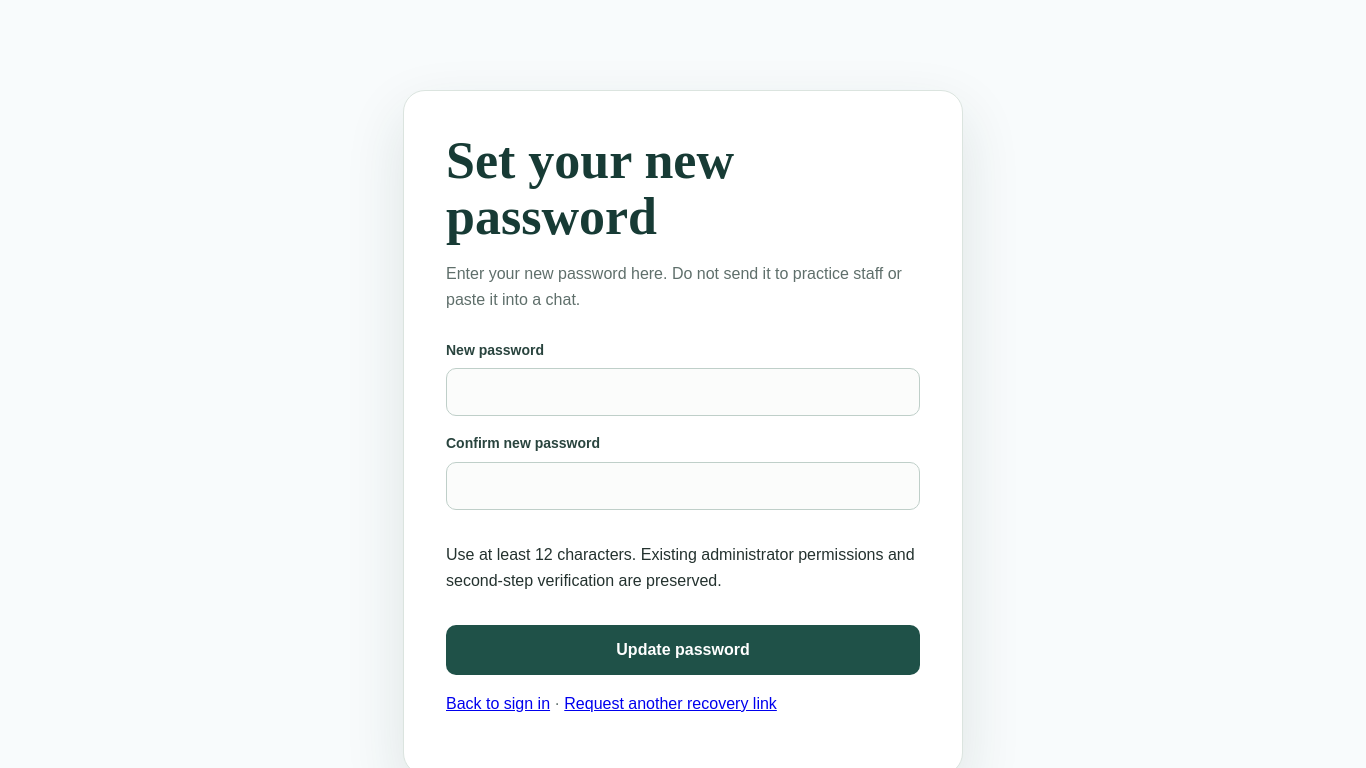
Test: expired session is rechecked before updating
Type "synthetic-test-only-123" into the password field labelled "New password" at (683, 392), box left=446, top=368, right=920, bottom=416
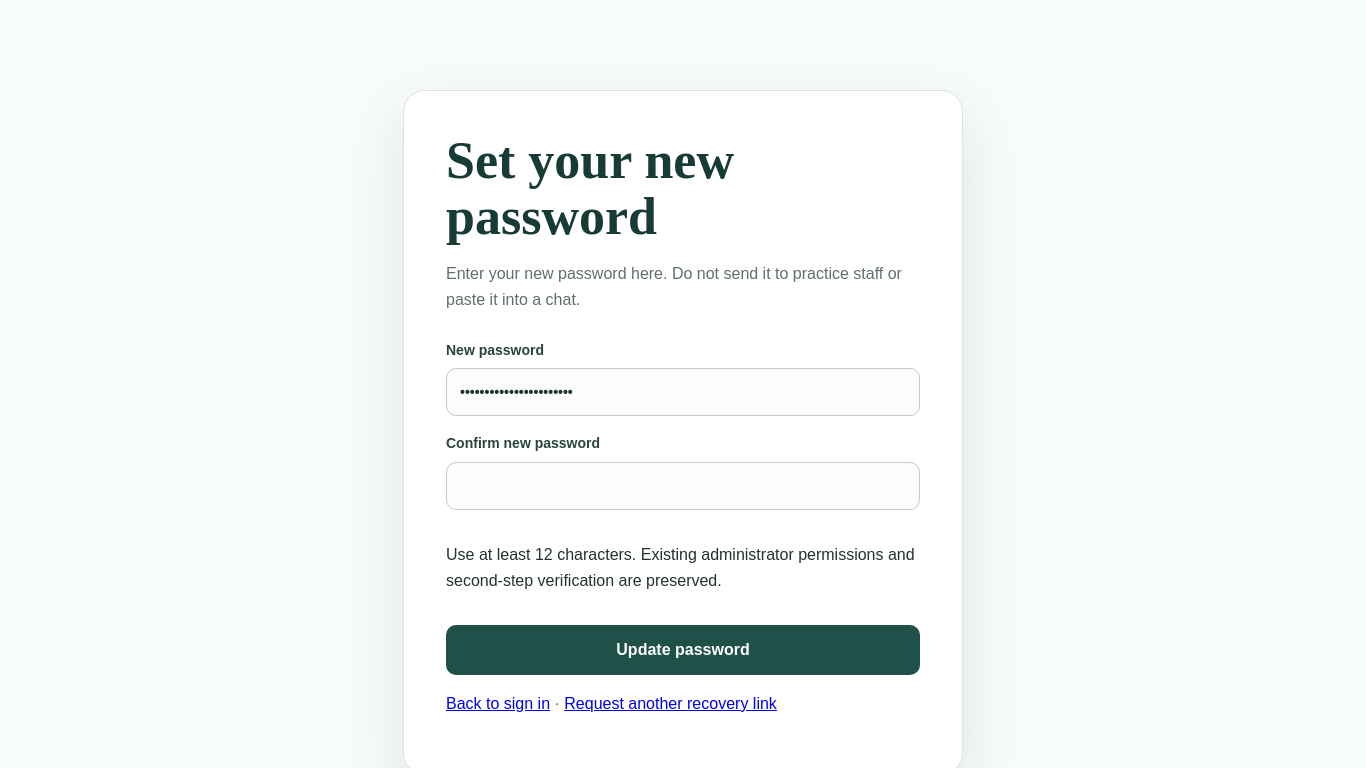
Type "synthetic-test-only-123" into the password field labelled "Confirm new password" at (683, 486), box left=446, top=462, right=920, bottom=510
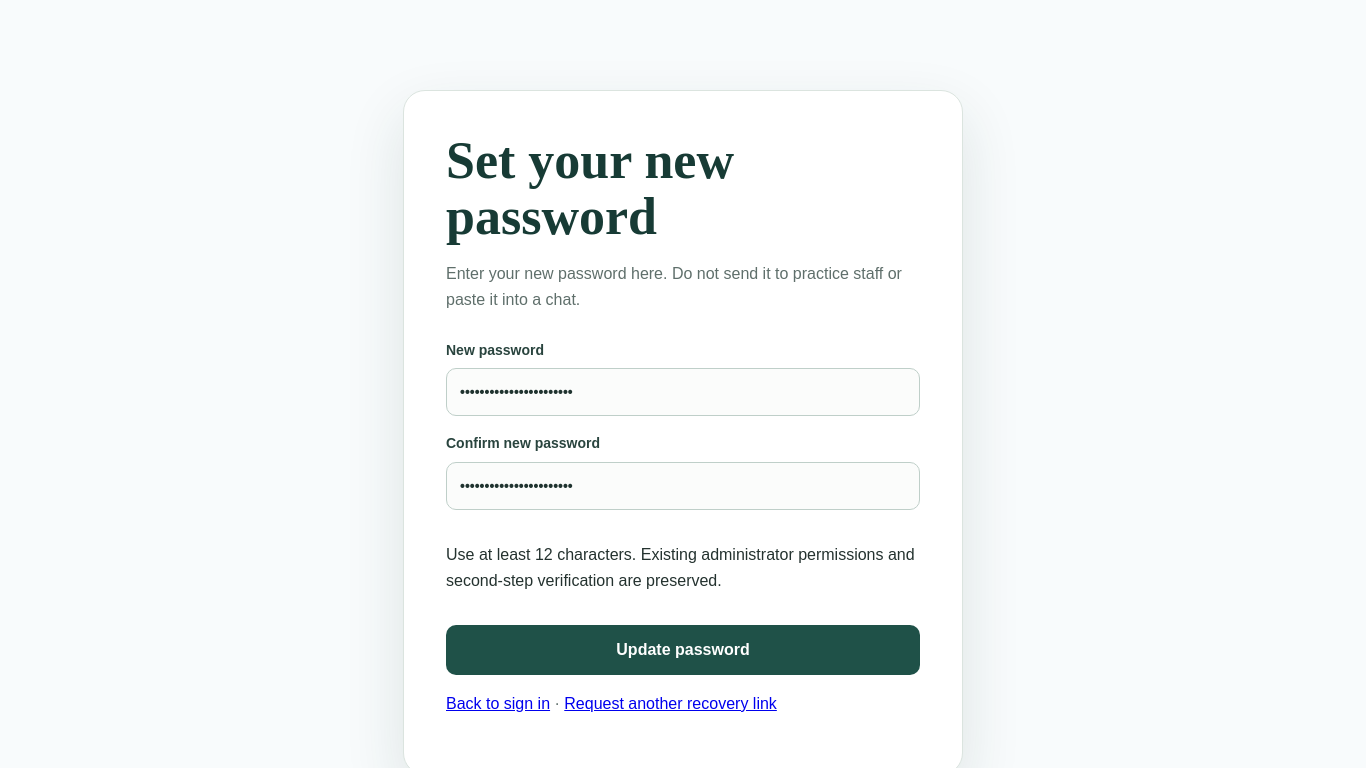
Click the button "Update password" at (683, 650), box left=446, top=625, right=920, bottom=675
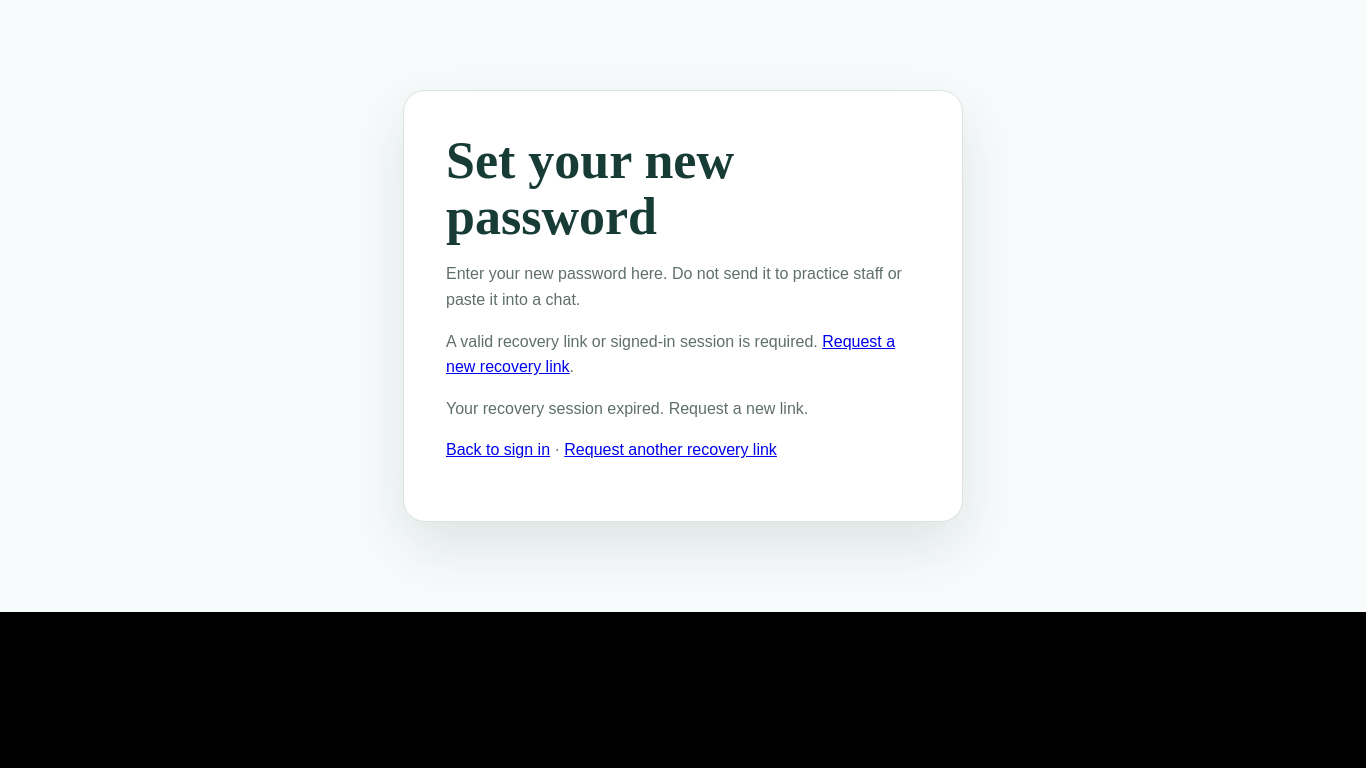
Check: the text "Your recovery session expired. Request a new link." is shown, box left=446, top=400, right=808, bottom=417
